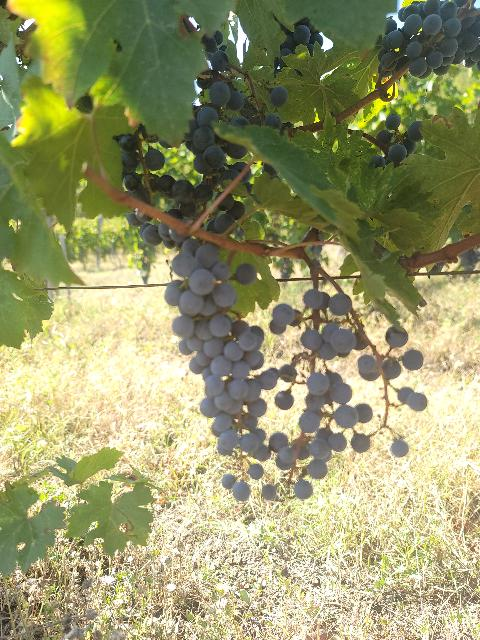grapes: (269, 292, 422, 478), (165, 239, 279, 461), (378, 0, 480, 80)
